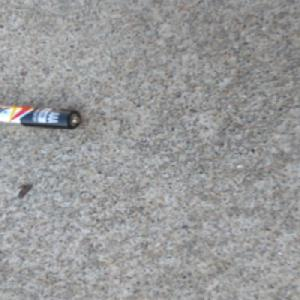Battery: (0, 103, 82, 130)
